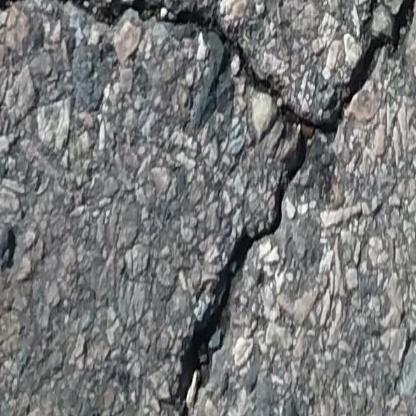Cracks: (0, 0, 416, 128)
